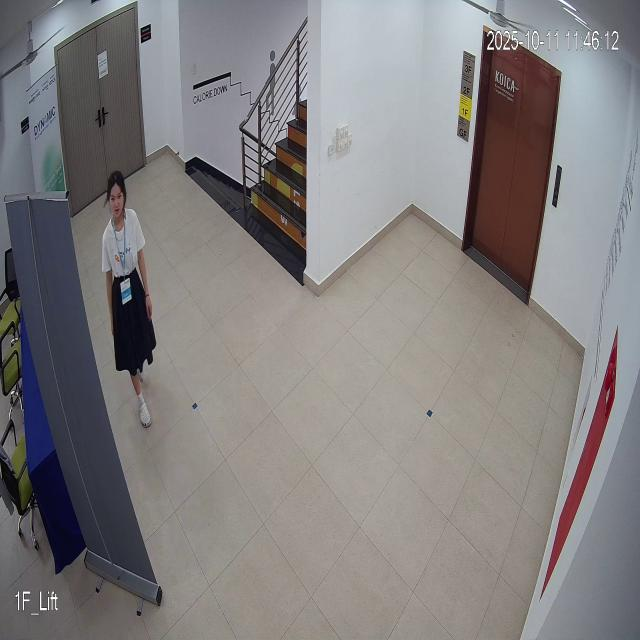face: (105, 162, 132, 230)
